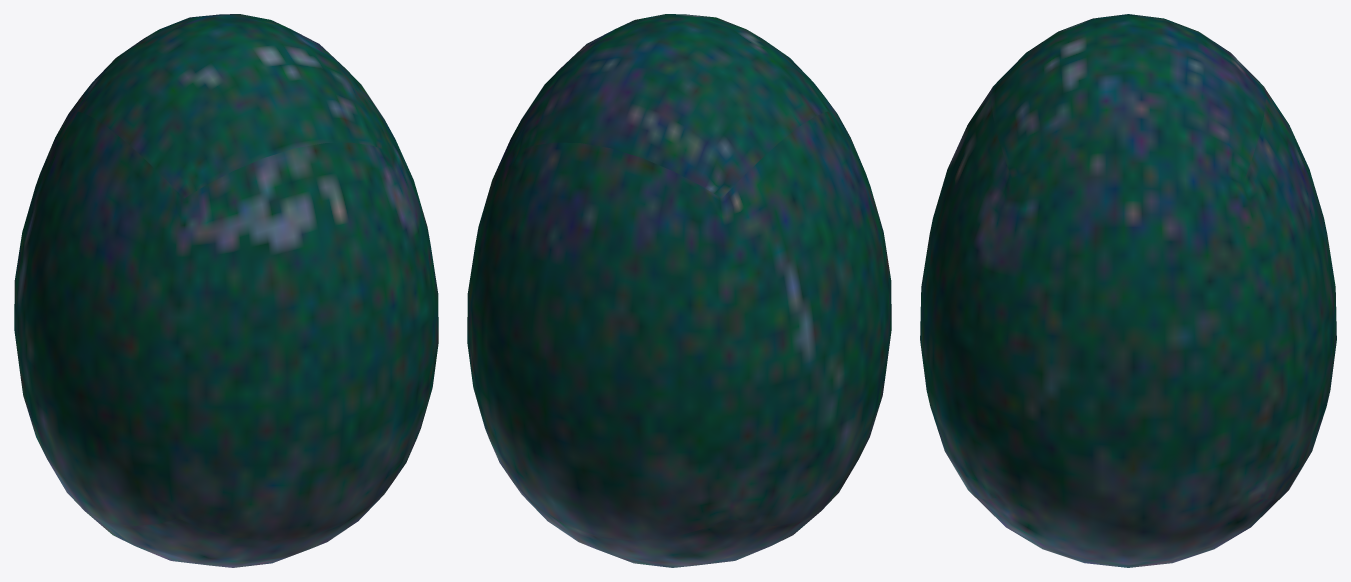
The model's file is egg.fbx.
The picture shows the model from 3 angles, left to right: view 1: azimuth 30°, elevation 25°; view 2: azimuth 150°, elevation 25°; view 3: azimuth 270°, elevation 25°; orthographic projection.
Parts seen in each view (by area): view 1: Cube.001; view 2: Cube.001; view 3: Cube.001.
Boxes of the visible parts, bbox=[...] form: Cube.001: bbox=[14, 14, 438, 567]; Cube.001: bbox=[467, 14, 891, 567]; Cube.001: bbox=[920, 14, 1336, 567].
Bounding box in the file's own units: 141 × 195 × 141.
1 material, 1 textured.
